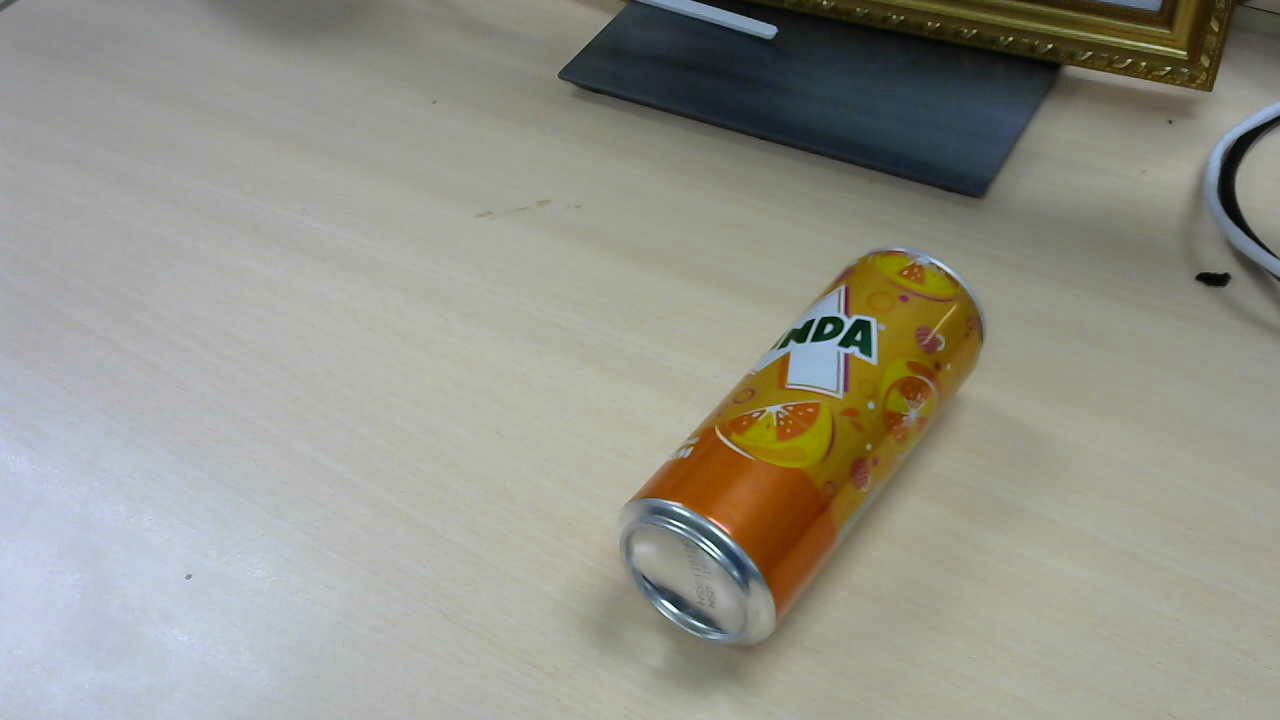Mirinda: (624, 255, 988, 651)
